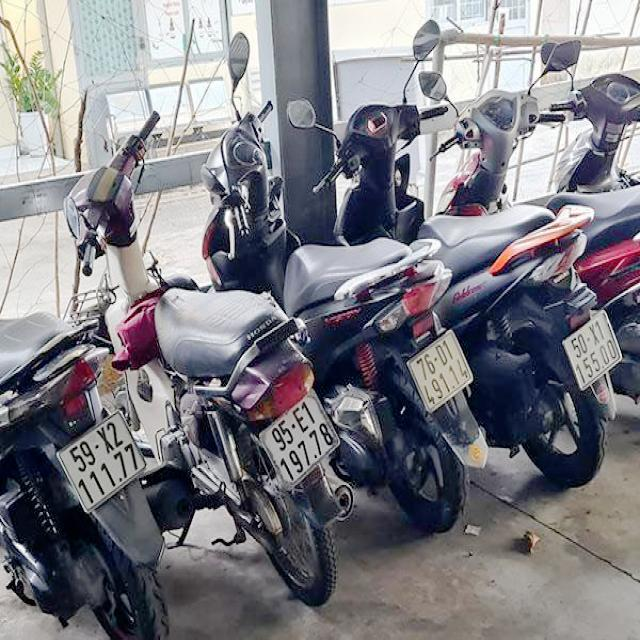license_plate: (58, 410, 148, 513), (262, 393, 342, 491), (410, 331, 475, 413), (566, 310, 623, 391)
